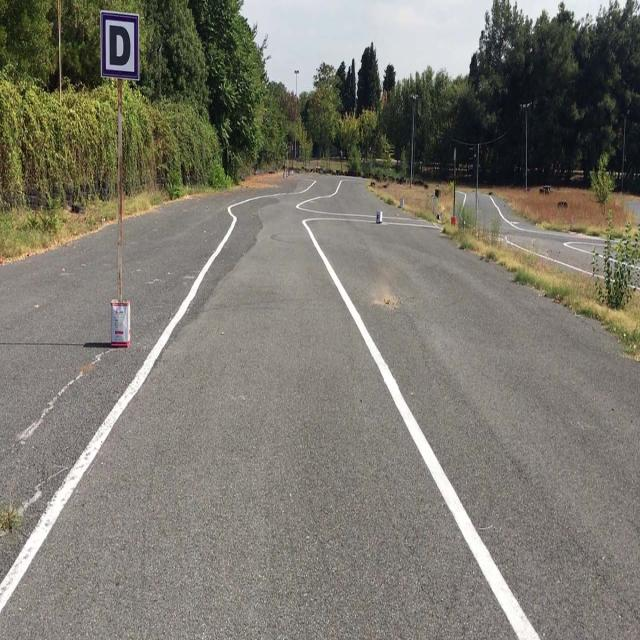durak: (100, 10, 140, 81)
